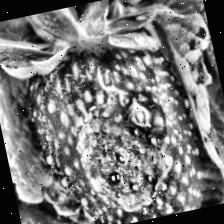Anthracnose Fruit Rot: (57, 86, 184, 224)
